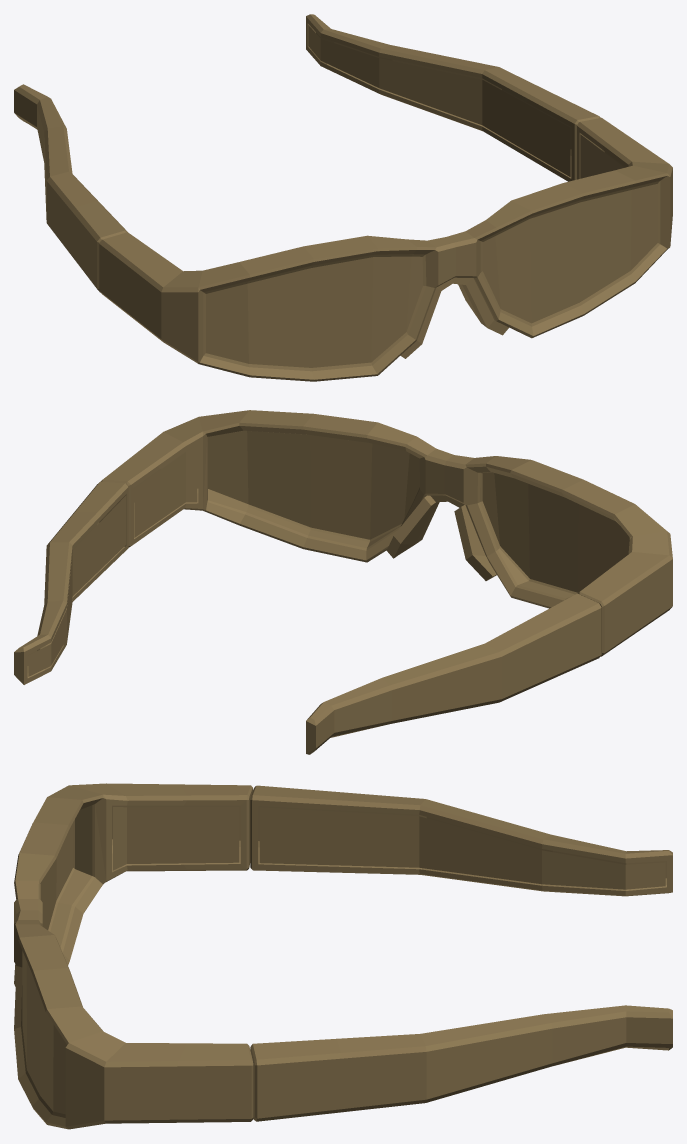
Rendered from eyeglasses.obj.
The picture shows the model from 3 angles, top to bottom: view 1: azimuth 30°, elevation 25°; view 2: azimuth 150°, elevation 25°; view 3: azimuth 270°, elevation 25°; orthographic projection. The views are drawn at different scales.
Parts seen in each view (by area): view 1: eyeglasses:Box10; view 2: eyeglasses:Box10; view 3: eyeglasses:Box10.
Boxes of the visible parts, box(x1,y1,x2,y2) form: eyeglasses:Box10: box(14, 14, 672, 381); eyeglasses:Box10: box(14, 410, 672, 754); eyeglasses:Box10: box(14, 783, 672, 1129).
Size of the model in its own units: 1.58 by 0.3774 by 1.57.
